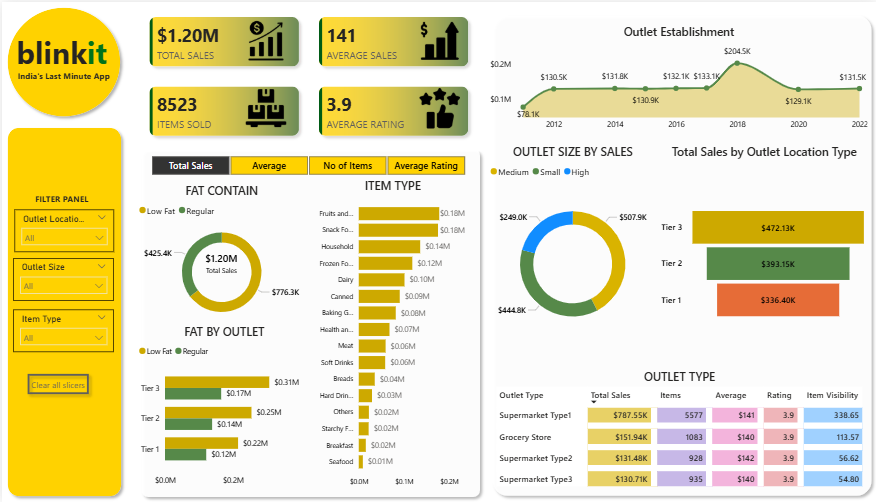

The dashboard page shown, as its layout file describes it:
{"tool":"powerbi","page":{"name":"My Style","canvas":[1400,800],"ordinal":0},"visuals":[{"type":"shape","box":[0,192.1,199.6,607.8],"z":0},{"type":"shape","box":[0,0,198,192],"z":1000},{"type":"textbox","box":[18.8,41.9,160,78.1],"z":2000},{"type":"textbox","box":[19.4,103.1,161.2,33.1],"z":3000},{"type":"shape","box":[213.1,225.1,559.8,574.8],"z":4000},{"type":"donutChart","title":"FAT CONTAIN","fields":{"Y":["BlinkIT Grocery Data.Total Sales"],"Category":["BlinkIT Grocery Data.Item Fat Content"]},"box":[214,287.7,275.4,234.5],"z":5000},{"type":"slicer","fields":{"Values":["Metrics.Metrics"]},"box":[214.3,240.3,550.6,40.3],"z":6000},{"type":"cardVisual","fields":{"Data":["BlinkIT Grocery Data.Total Sales"]},"box":[309.2,385.7,82.5,63],"z":7000},{"type":"clusteredBarChart","title":"FAT BY OUTLET","fields":{"Y":["BlinkIT Grocery Data.Total Sales"],"Category":["BlinkIT Grocery Data.Outlet Location Type"],"Series":["BlinkIT Grocery Data.Item Fat Content"]},"box":[214.6,514.8,283.7,270.2],"z":8000},{"type":"barChart","title":"ITEM TYPE","fields":{"Y":["BlinkIT Grocery Data.Total Sales"],"Category":["BlinkIT Grocery Data.Item Type"]},"box":[489.3,280.7,270.2,504.3],"z":9000},{"type":"cardVisual","fields":{"Data":["BlinkIT Grocery Data.Total Sales","BlinkIT Grocery Data.Average","BlinkIT Grocery Data.No of Items","BlinkIT Grocery Data.Average Rating"]},"box":[213,0,559.7,239],"z":10000},{"type":"image","box":[389.6,136.4,64.9,67.5],"z":11000},{"type":"image","box":[667.5,136.4,64.9,67.5],"z":12000},{"type":"image","box":[667.5,28.6,64.9,67.5],"z":13000},{"type":"image","box":[389.6,28.6,64.9,67.5],"z":14000},{"type":"shape","box":[775.7,12.9,624.3,787.1],"z":15000},{"type":"lineChart","title":"Outlet Establishment","fields":{"Y":["BlinkIT Grocery Data.Total Sales"],"Category":["BlinkIT Grocery Data.Outlet Establishment Year"]},"box":[775.8,34.2,614.2,180],"z":16000},{"type":"donutChart","title":"OUTLET SIZE BY SALES","fields":{"Y":["BlinkIT Grocery Data.Total Sales"],"Category":["BlinkIT Grocery Data.Outlet Size"]},"box":[775.9,225.1,274.7,331.7],"z":17000},{"type":"funnel","fields":{"Category":["BlinkIT Grocery Data.Outlet Location Type"],"Y":["BlinkIT Grocery Data.Total Sales"]},"box":[1050.6,225.1,339.2,360.2],"z":18000},{"type":"pivotTable","title":"OUTLET TYPE","fields":{"Values":["BlinkIT Grocery Data.Total Sales","BlinkIT Grocery Data.No of Items","BlinkIT Grocery Data.Average","BlinkIT Grocery Data.Average Rating","Sum(BlinkIT Grocery Data.Item Visibility)"],"Rows":["BlinkIT Grocery Data.Outlet Type"]},"box":[786.5,585.3,595.8,199.6],"z":19000},{"type":"slicer","fields":{"Values":["BlinkIT Grocery Data.Outlet Location Type"]},"box":[19.1,331.8,159.5,68.2],"z":20000},{"type":"slicer","fields":{"Values":["BlinkIT Grocery Data.Outlet Size"]},"box":[17.7,409.5,160.9,68.2],"z":21000},{"type":"slicer","fields":{"Values":["BlinkIT Grocery Data.Item Type"]},"box":[17.7,492.7,160.9,68.2],"z":22000},{"type":"textbox","box":[47.7,299.1,100.9,32.7],"z":23000},{"type":"actionButton","box":[32.7,585.4,115.9,50.4],"z":24000}]}

Visuals, with their boxes in screenshot pixels (x1, y1, x2, y2), scaled from the page's 1400x800 canvas onto the 876x502 screenshot:
shape: {"x1": 0, "y1": 121, "x2": 125, "y2": 501}
shape: {"x1": 0, "y1": 0, "x2": 124, "y2": 120}
textbox: {"x1": 12, "y1": 26, "x2": 112, "y2": 75}
textbox: {"x1": 12, "y1": 65, "x2": 113, "y2": 85}
shape: {"x1": 133, "y1": 141, "x2": 484, "y2": 501}
"FAT CONTAIN" donutChart: {"x1": 134, "y1": 181, "x2": 306, "y2": 328}
slicer - Metrics.Metrics: {"x1": 134, "y1": 151, "x2": 479, "y2": 176}
cardVisual - BlinkIT Grocery Data.Total Sales: {"x1": 193, "y1": 242, "x2": 245, "y2": 282}
"FAT BY OUTLET" clusteredBarChart: {"x1": 134, "y1": 323, "x2": 312, "y2": 493}
"ITEM TYPE" barChart: {"x1": 306, "y1": 176, "x2": 475, "y2": 493}
cardVisual - BlinkIT Grocery Data.Total Sales x BlinkIT Grocery Data.Average: {"x1": 133, "y1": 0, "x2": 483, "y2": 150}
image: {"x1": 244, "y1": 86, "x2": 284, "y2": 128}
image: {"x1": 418, "y1": 86, "x2": 458, "y2": 128}
image: {"x1": 418, "y1": 18, "x2": 458, "y2": 60}
image: {"x1": 244, "y1": 18, "x2": 284, "y2": 60}
shape: {"x1": 485, "y1": 8, "x2": 875, "y2": 501}
"Outlet Establishment" lineChart: {"x1": 485, "y1": 21, "x2": 870, "y2": 134}
"OUTLET SIZE BY SALES" donutChart: {"x1": 485, "y1": 141, "x2": 657, "y2": 349}
funnel - BlinkIT Grocery Data.Outlet Location Type x BlinkIT Grocery Data.Total Sales: {"x1": 657, "y1": 141, "x2": 870, "y2": 367}
"OUTLET TYPE" pivotTable: {"x1": 492, "y1": 367, "x2": 865, "y2": 493}
slicer - BlinkIT Grocery Data.Outlet Location Type: {"x1": 12, "y1": 208, "x2": 112, "y2": 251}
slicer - BlinkIT Grocery Data.Outlet Size: {"x1": 11, "y1": 257, "x2": 112, "y2": 300}
slicer - BlinkIT Grocery Data.Item Type: {"x1": 11, "y1": 309, "x2": 112, "y2": 352}
textbox: {"x1": 30, "y1": 188, "x2": 93, "y2": 208}
actionButton: {"x1": 20, "y1": 367, "x2": 93, "y2": 399}
